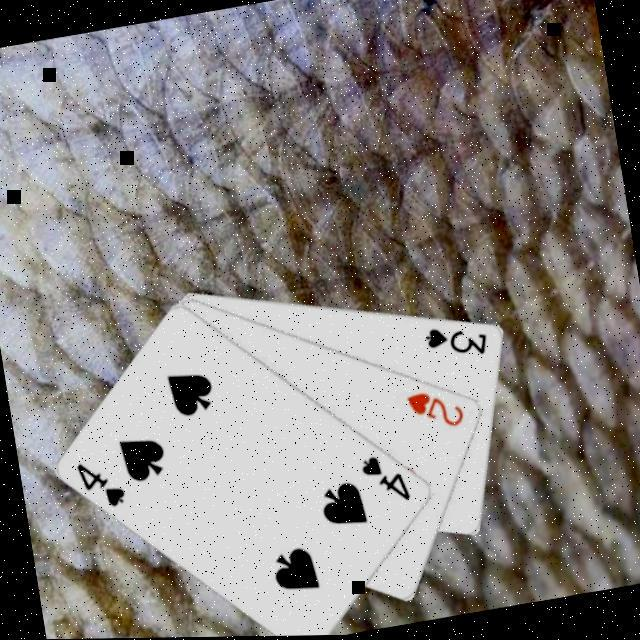2H: (402, 384, 468, 440)
3S: (421, 318, 492, 368)
4S: (356, 449, 414, 513), (72, 454, 130, 518)
